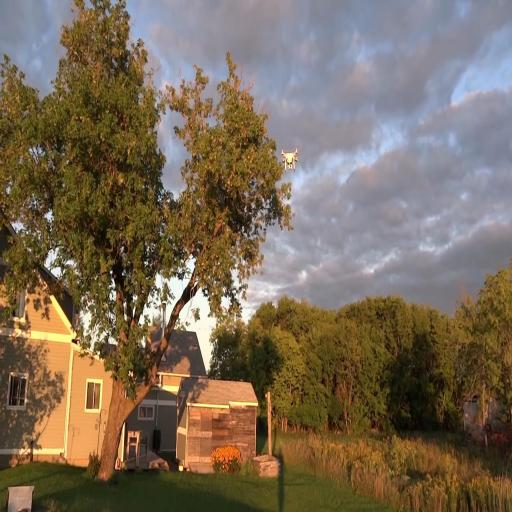drone: (280, 146, 299, 171)
